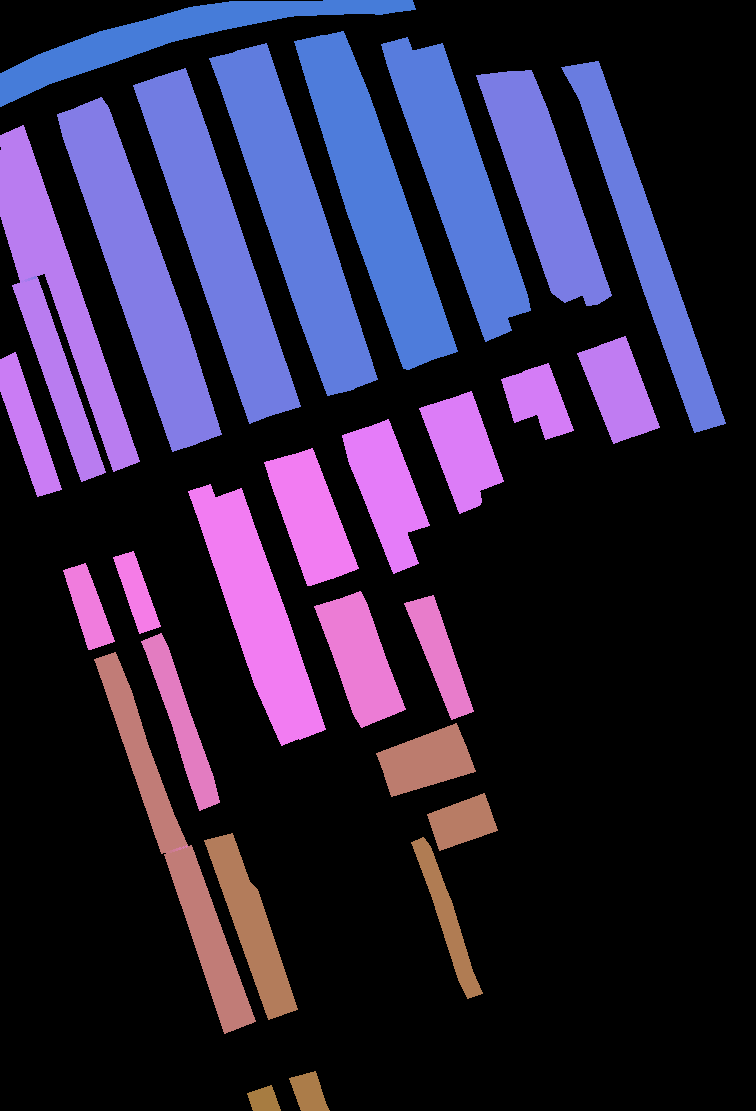parkingspot: (561, 61, 725, 432), (153, 68, 300, 414), (76, 97, 221, 443), (209, 51, 353, 395), (235, 43, 377, 389), (133, 77, 275, 423), (57, 107, 197, 451), (0, 125, 139, 471), (316, 31, 457, 360), (294, 35, 432, 369), (0, 0, 415, 106), (381, 37, 511, 341), (410, 43, 530, 318), (188, 484, 301, 745), (213, 488, 325, 739), (476, 71, 586, 302), (505, 70, 611, 305), (12, 277, 105, 481), (94, 652, 187, 853), (204, 833, 297, 1019), (164, 845, 255, 1033), (141, 633, 219, 810), (411, 837, 482, 998), (342, 427, 418, 573), (264, 454, 334, 585), (314, 598, 385, 727), (0, 352, 61, 496), (291, 448, 358, 578), (404, 595, 473, 719), (338, 591, 405, 718), (365, 419, 429, 533), (419, 399, 481, 513), (0, 148, 47, 281), (599, 336, 659, 436), (445, 391, 503, 491), (577, 345, 635, 443), (384, 742, 475, 796), (376, 723, 465, 776), (63, 563, 114, 649), (427, 793, 497, 850), (113, 551, 160, 633), (523, 363, 573, 439), (501, 371, 539, 422), (289, 1071, 329, 1111), (247, 1085, 280, 1111)
